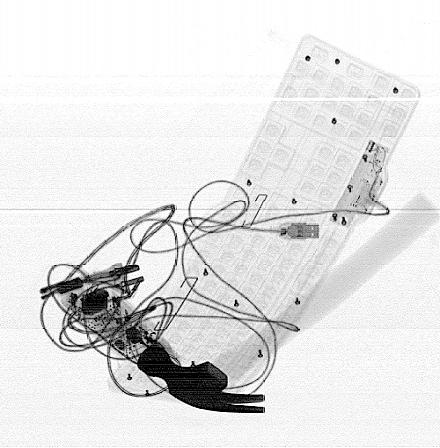Hammer: (137, 193, 439, 413)
